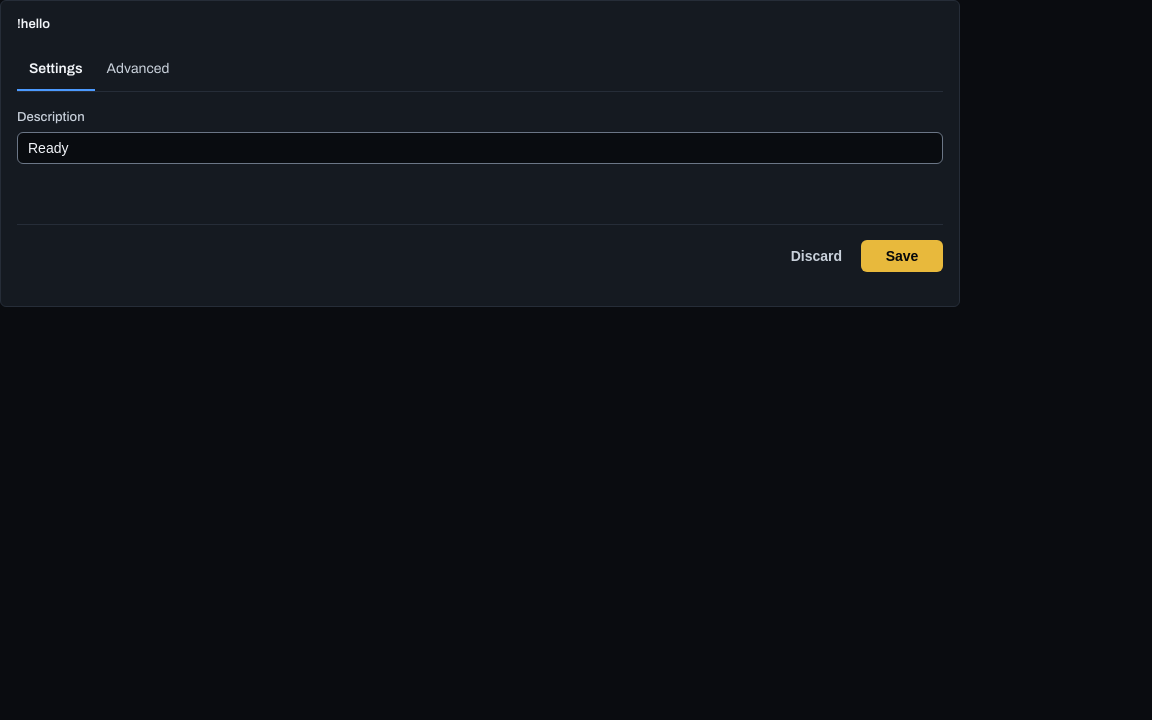
EditorShell and declaration renderer › reveals interaction-driven errors before focusing the first invalid field
Expected: the tab "Advanced" is shown, [94, 47, 181, 91]
Click the button "Save" at coordinates (902, 256), box [861, 240, 943, 272]
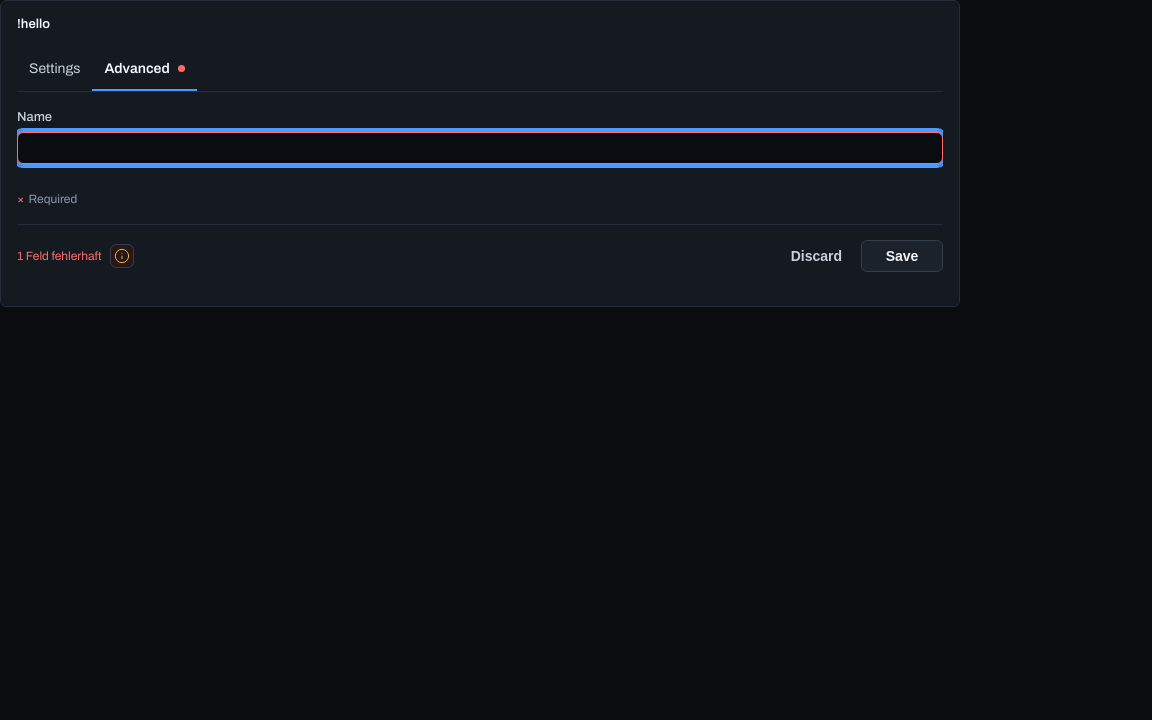
Now the tab with aria-label "Advanced, error" is selected, box [92, 47, 197, 91]
Now the field labelled "Name" is marked as invalid, box [17, 132, 943, 164]
Click the button named "Fehlerhafte Felder anzeigen" at coordinates (122, 256), box [110, 244, 134, 268]
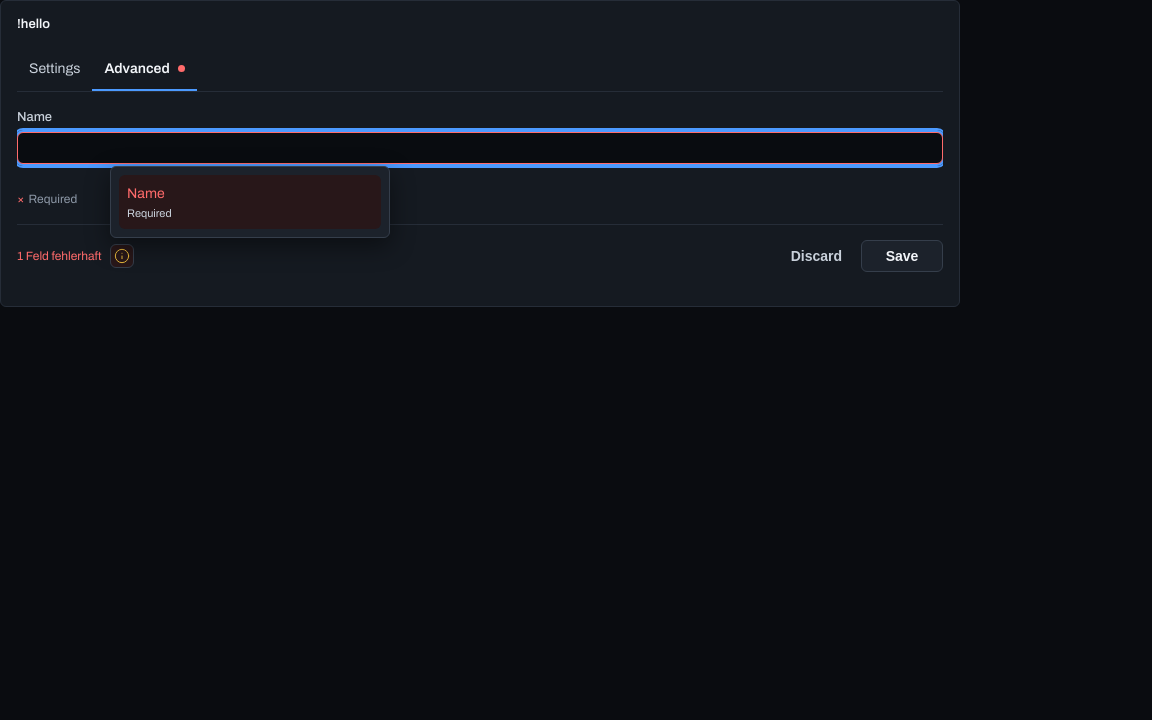
Now the button with aria-label "Name: Required" is shown, box [119, 175, 381, 229]
